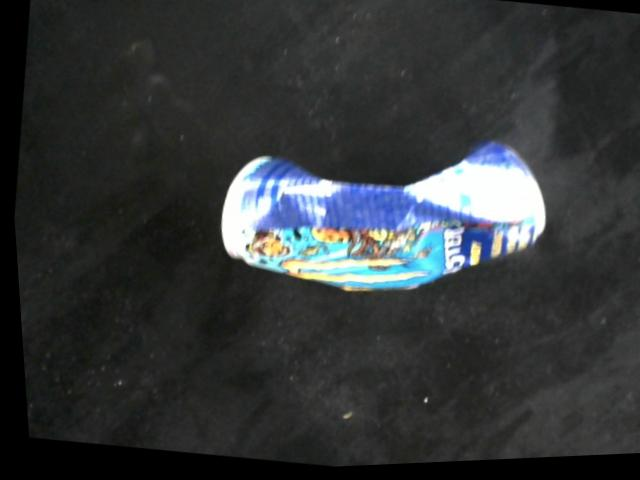can: (212, 144, 550, 306)
